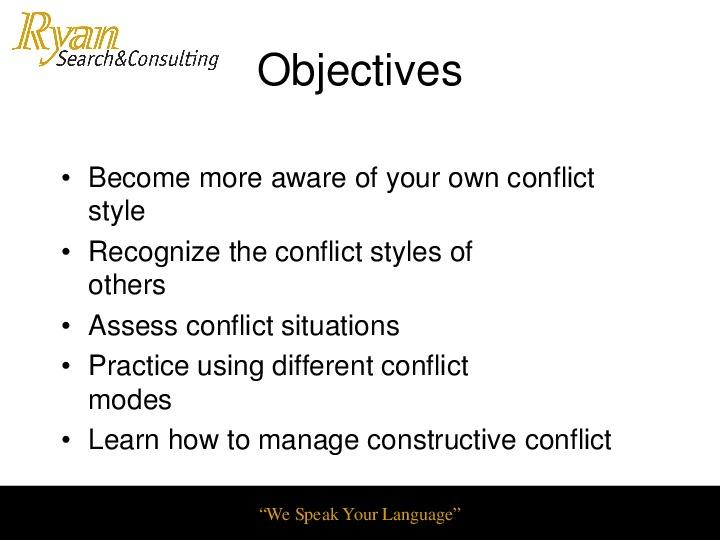paragraph: (43, 125, 700, 468)
title: (4, 2, 496, 99)
